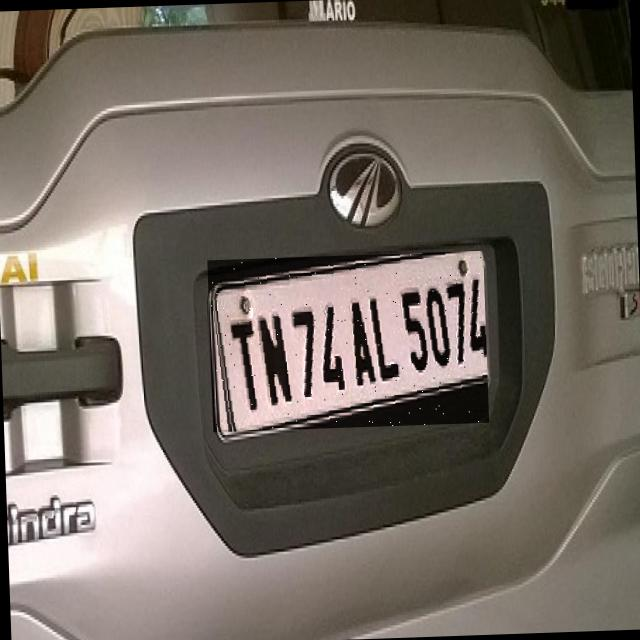Plate: (208, 251, 490, 433)
